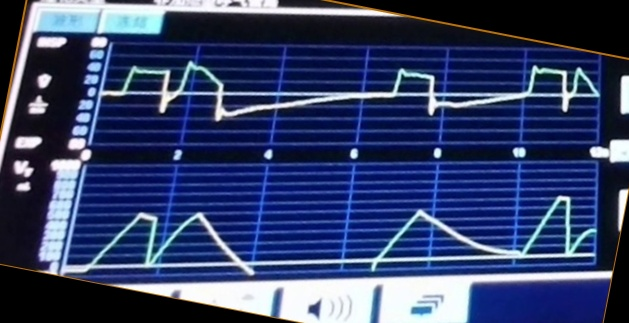Double_Triggering Flow: (109, 57, 598, 133)
Double_Triggering Volume: (83, 191, 595, 271)
